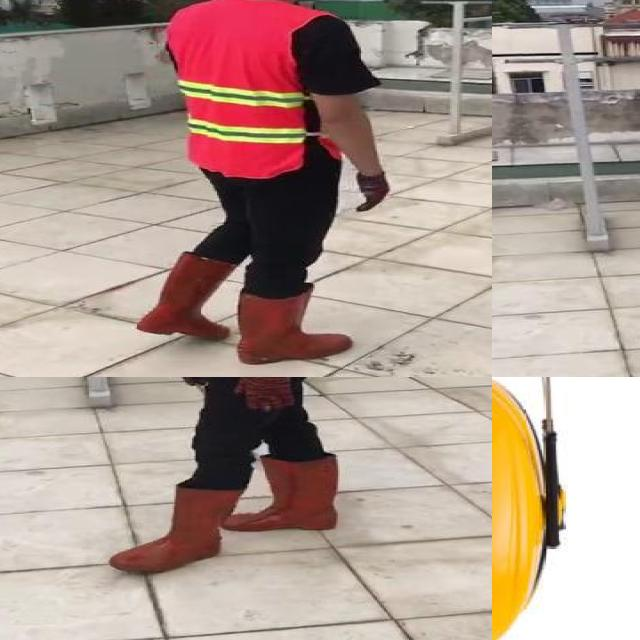Ear-protection: (492, 377, 566, 640)
boots: (108, 484, 242, 573), (237, 287, 352, 367), (141, 253, 233, 341), (236, 457, 338, 533)
hand_glove: (236, 377, 295, 412), (354, 174, 388, 214), (172, 377, 211, 387)
person: (130, 0, 395, 364), (105, 377, 343, 574), (603, 0, 640, 377)
vest: (167, 0, 321, 179)
